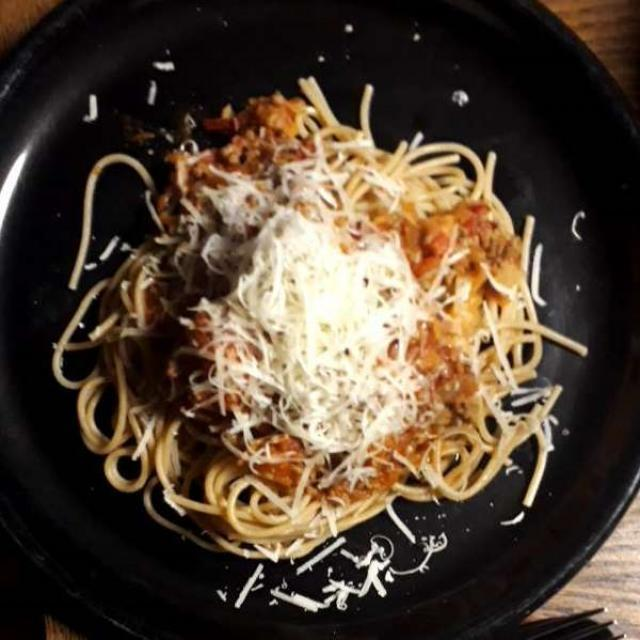bolognaise-sauce: (150, 104, 514, 491)
gruyere: (206, 152, 436, 455)
pasta: (43, 93, 548, 550)
